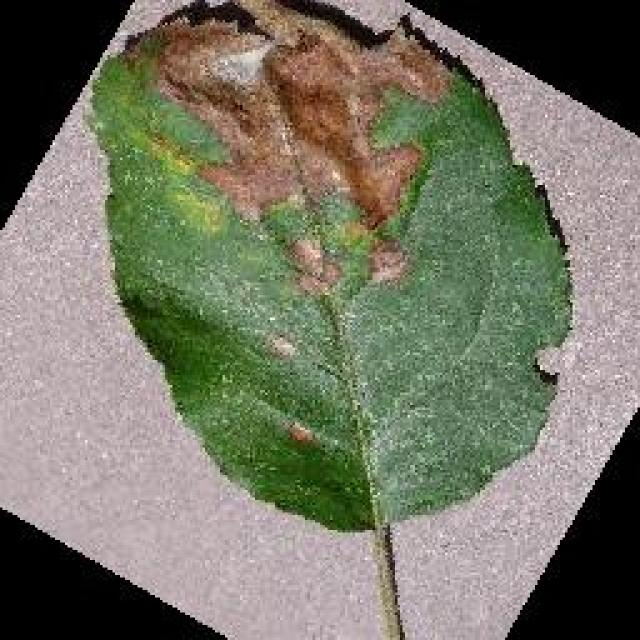Black_rot: (80, 0, 575, 535)
